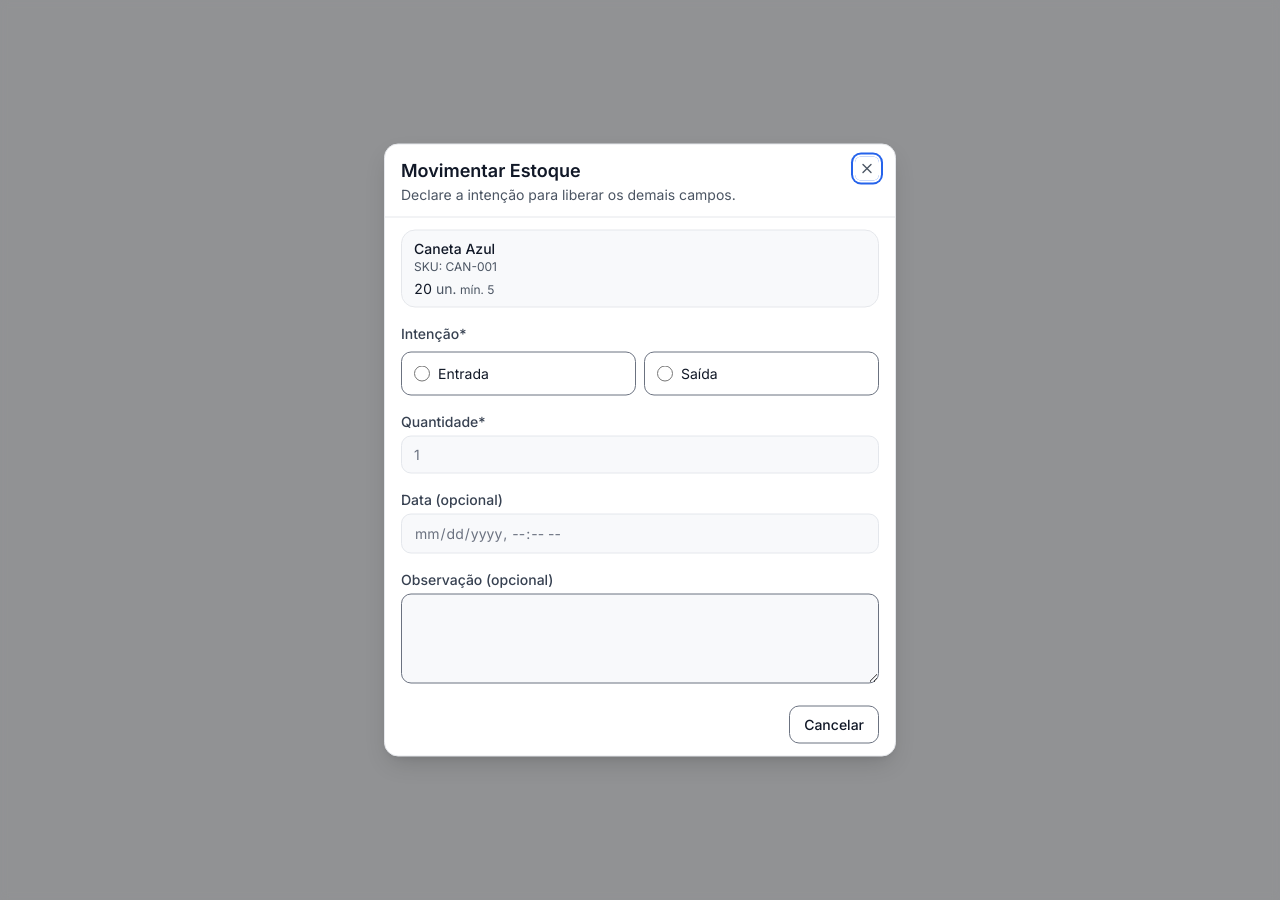
it: MovementFormModal — declaração de intenção (D2/P-4) › (c) escolhida a intenção, o preview mostra o saldo resultante — entrada
Click the radio button labelled "Entrada".
click(422, 374)  # box 414,366 -> 430,382
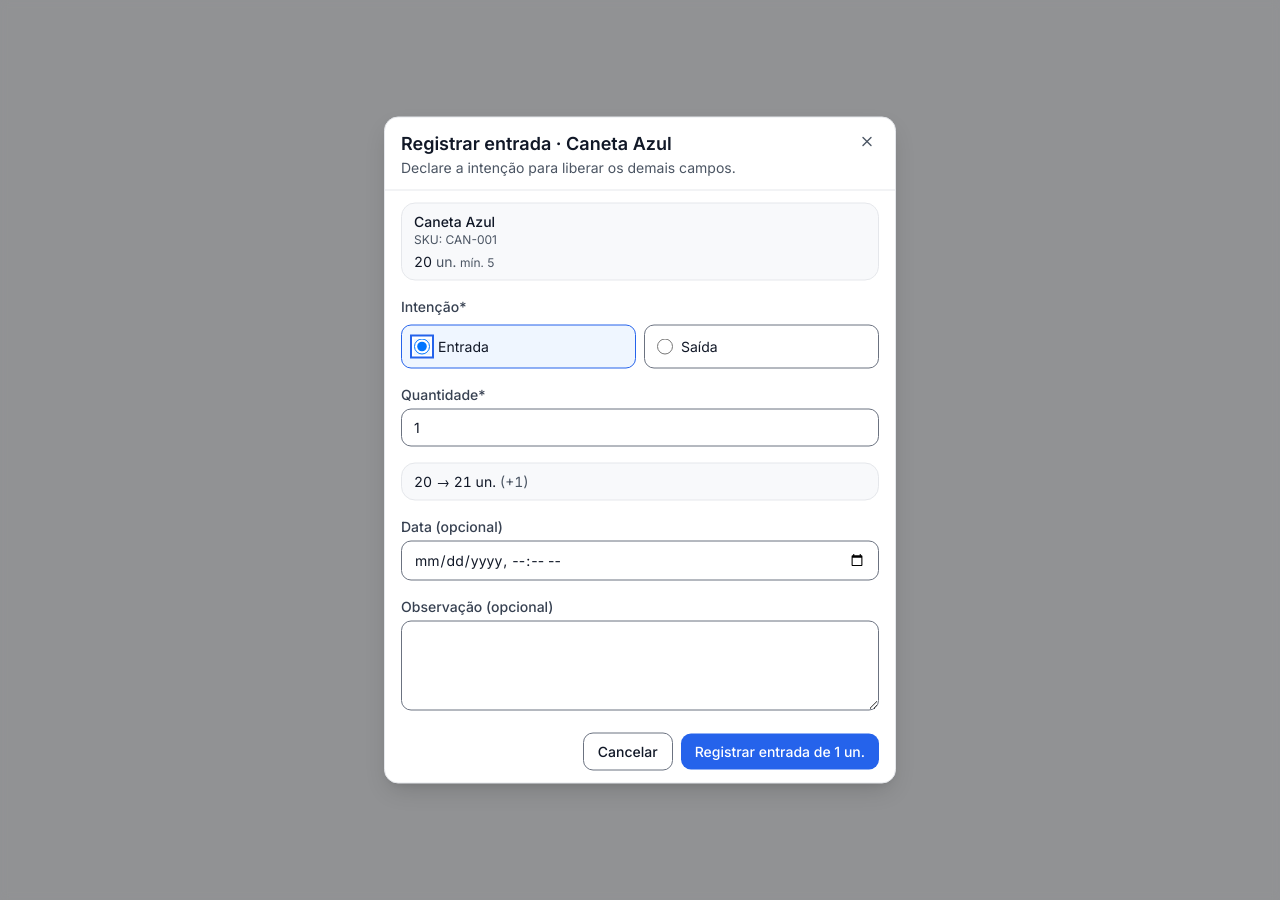
Clear the number field labelled "Quantidade*" at (640, 428), box 401,408 -> 879,446
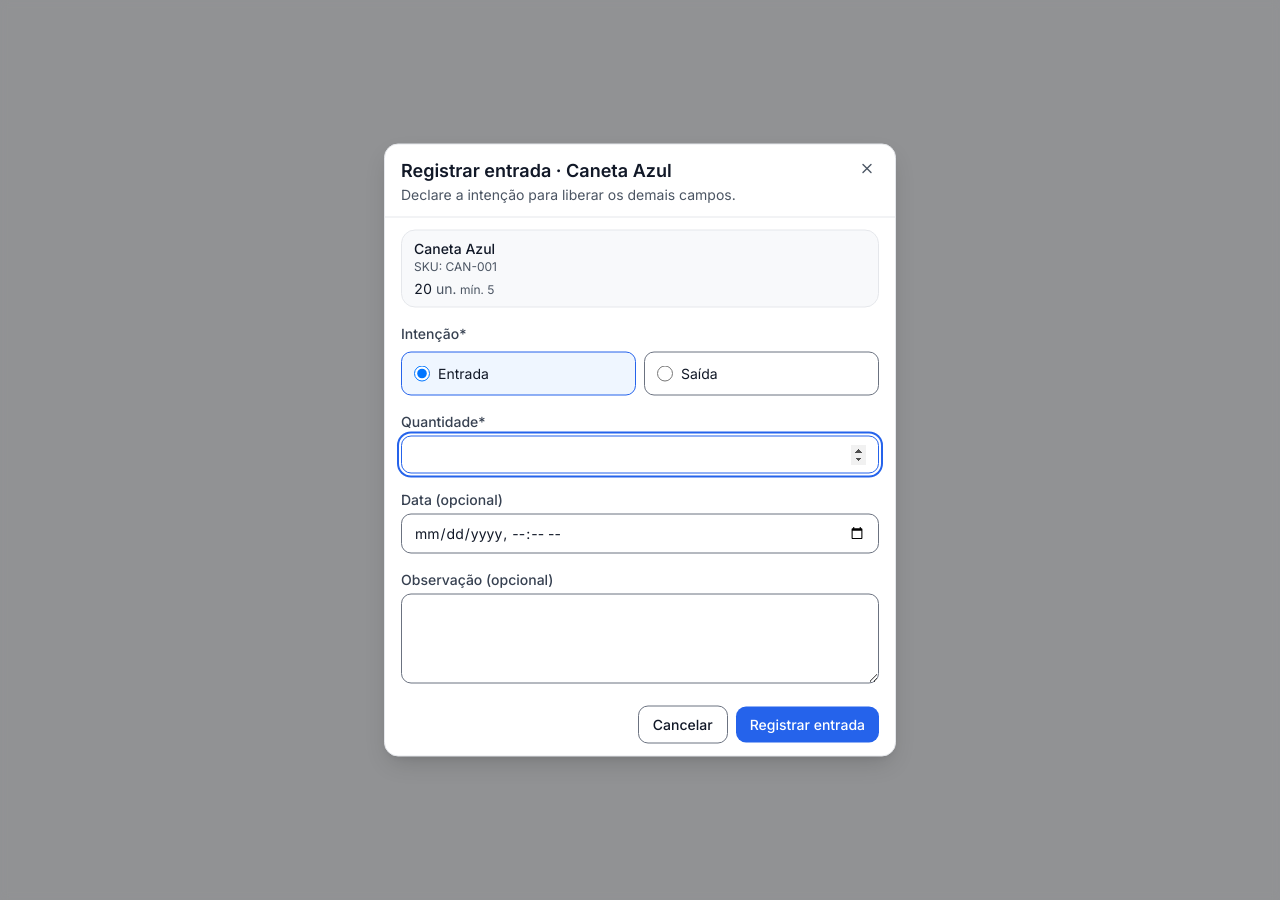
Type "12" into the number field labelled "Quantidade*".
click(640, 454); type("12")  # box 401,436 -> 879,474
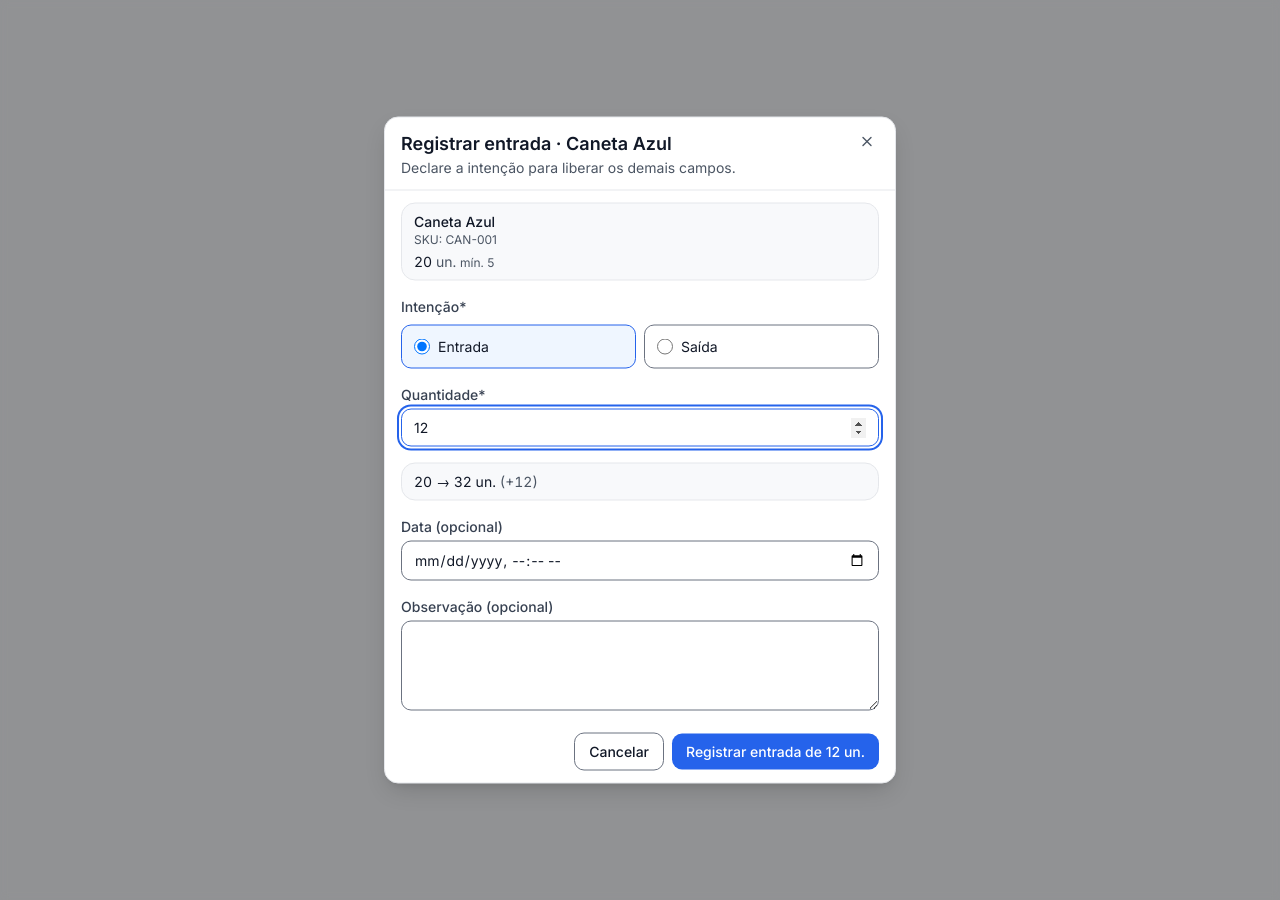
Check: the element with test id "movement-preview" reads "20 → 32 un. (+12)", box 414,472 -> 472,490
Check: the element with test id "movement-preview" shows "+12", box 505,472 -> 532,490
